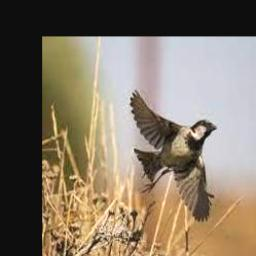Sparrow: (130, 89, 217, 222)
